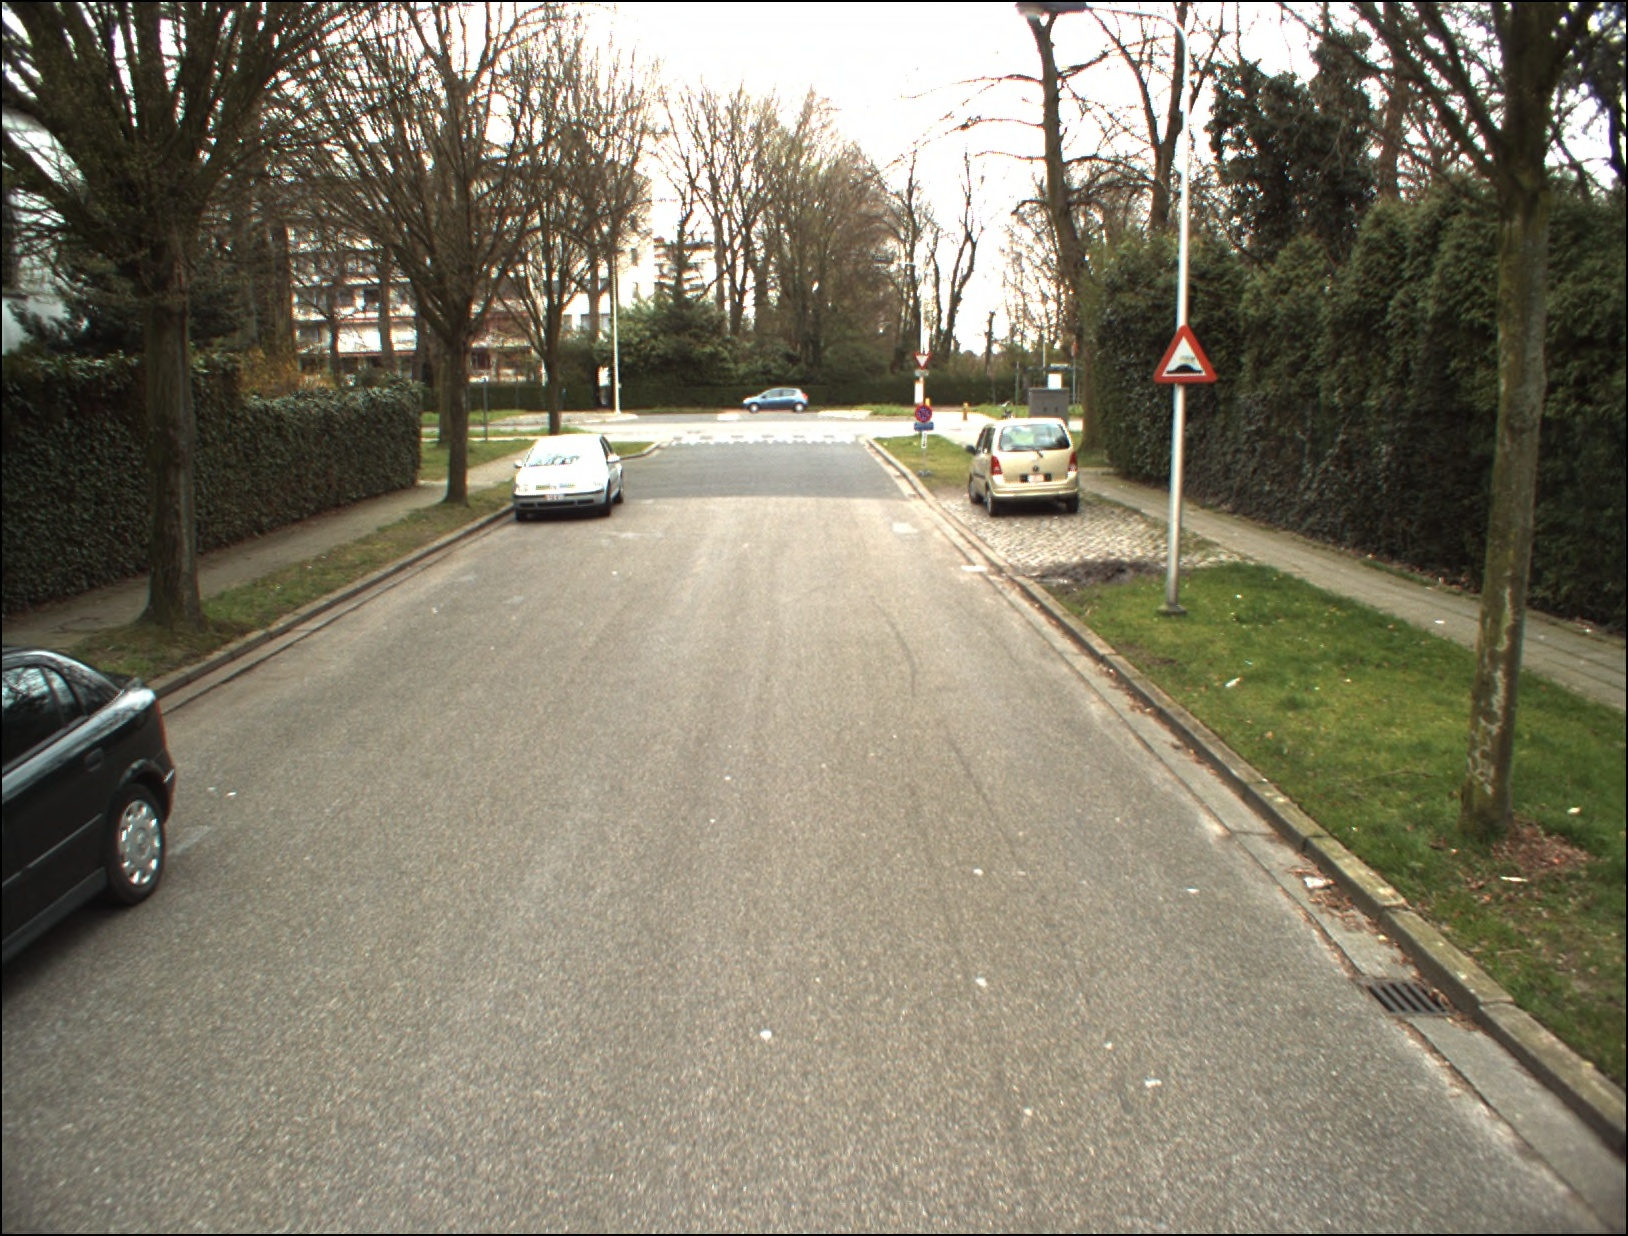giveway: (913, 349, 931, 369)
speedbump: (1148, 321, 1219, 388)
